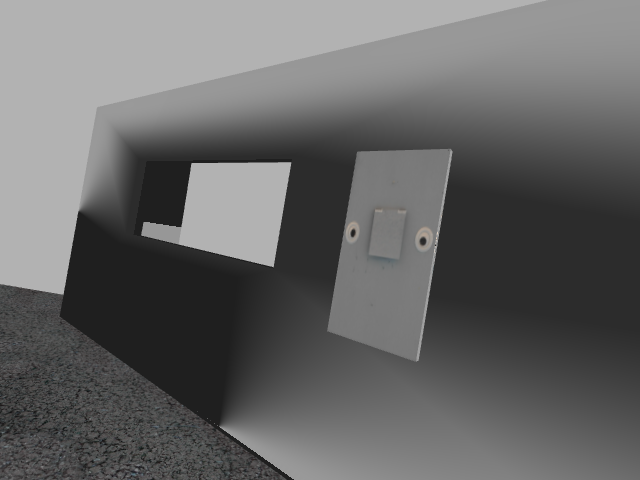facade: (343, 203, 434, 263)
